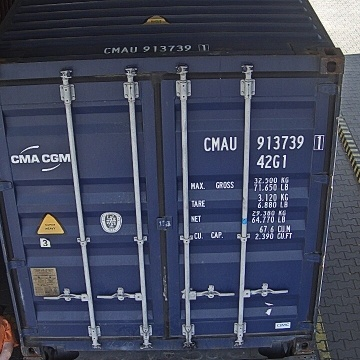serial_id: (203, 135, 324, 151)
